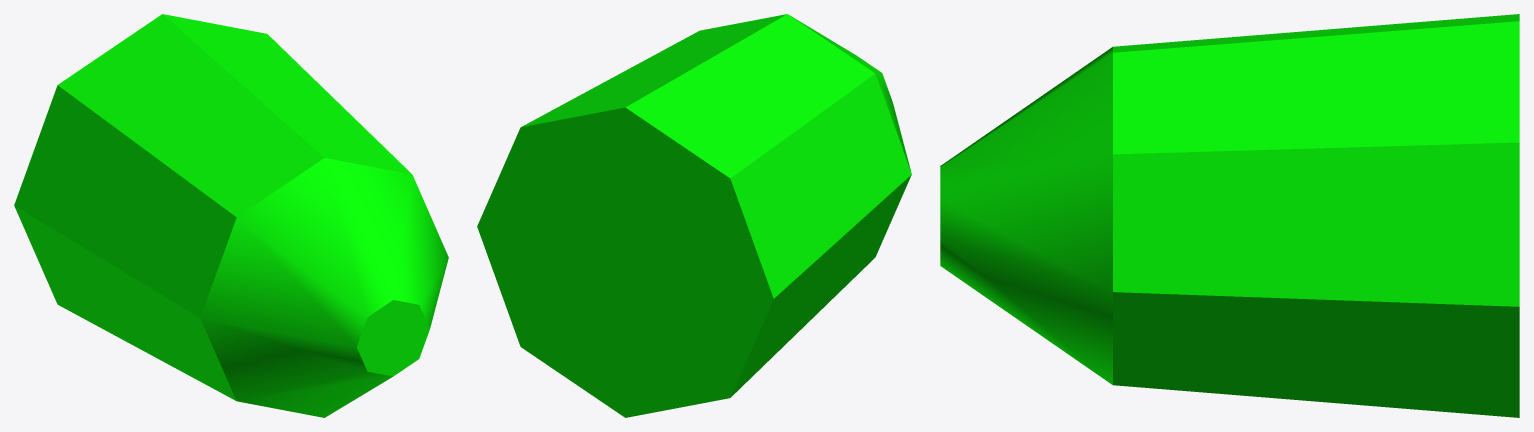
Rendered from SM_Lamp_01_01_Collider.fbx.
3 renders of one model, left to right at view 1: azimuth 30°, elevation 25°; view 2: azimuth 150°, elevation 25°; view 3: azimuth 270°, elevation 25°, orthographic. The views are drawn at different scales.
Parts seen in each view (by area): view 1: SM_Lamp_01_01_Collider; view 2: SM_Lamp_01_01_Collider; view 3: SM_Lamp_01_01_Collider.
Boxes of the visible parts, x1=… form: SM_Lamp_01_01_Collider: x1=14, y1=14, x2=448, y2=417; SM_Lamp_01_01_Collider: x1=477, y1=14, x2=911, y2=417; SM_Lamp_01_01_Collider: x1=940, y1=14, x2=1519, y2=417.
Size of the model in its own units: 13.25 by 13.25 by 17.86.
